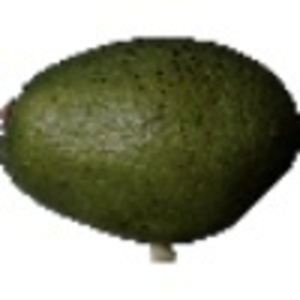abacate: (1, 32, 298, 247)
